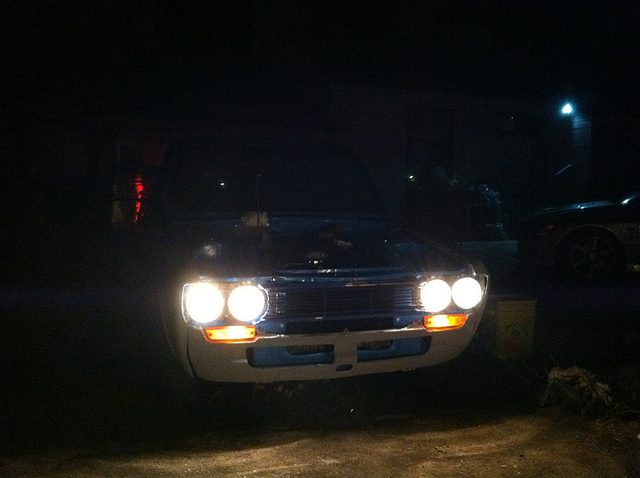car: (130, 124, 500, 418)
